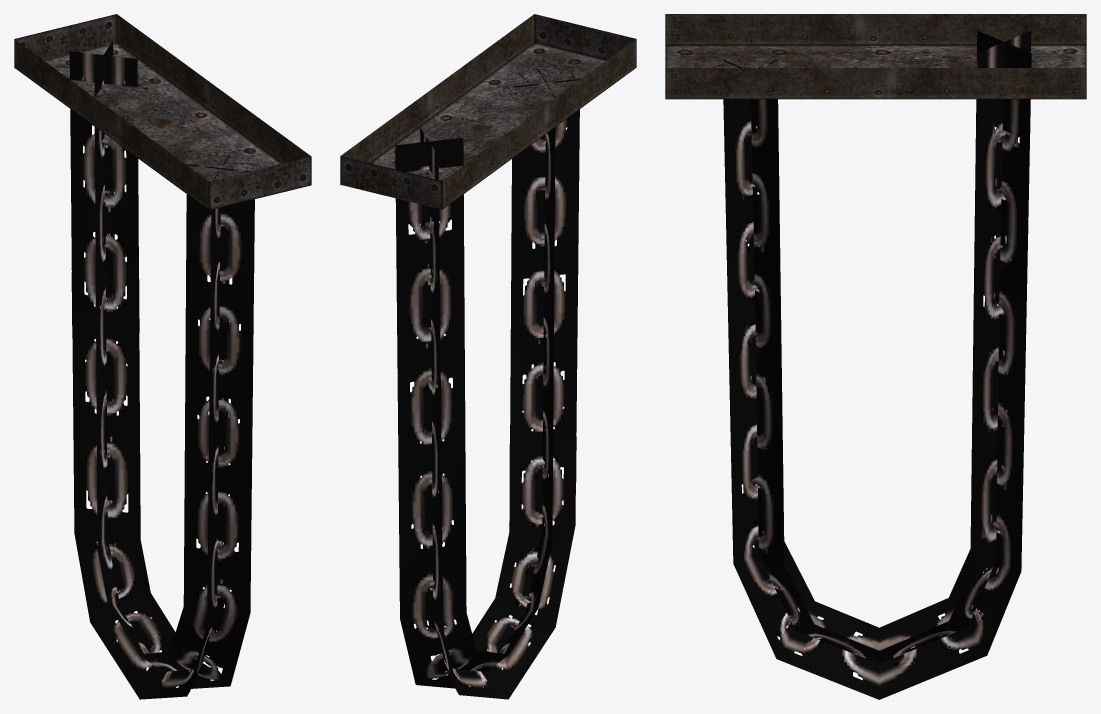
File: chain_pipe_mount_ceiling.dae
The picture shows the model from 3 angles, left to right: view 1: azimuth 30°, elevation 25°; view 2: azimuth 150°, elevation 25°; view 3: azimuth 270°, elevation 25°; orthographic projection. The views are drawn at different scales.
Visible parts, largest first — view 1: chain_pipe02, pCube1; view 2: chain_pipe02, pCube1; view 3: chain_pipe02, pCube1.
Boxes of the visible parts, x1,y1,x2,y2 form: chain_pipe02: (69,41,254,699); pCube1: (14,14,311,210); chain_pipe02: (395,68,580,699); pCube1: (340,14,636,209); chain_pipe02: (723,30,1031,699); pCube1: (665,14,1086,99).
Size of the model in its own units: 0.1741 by 0.9706 by 0.5728.
